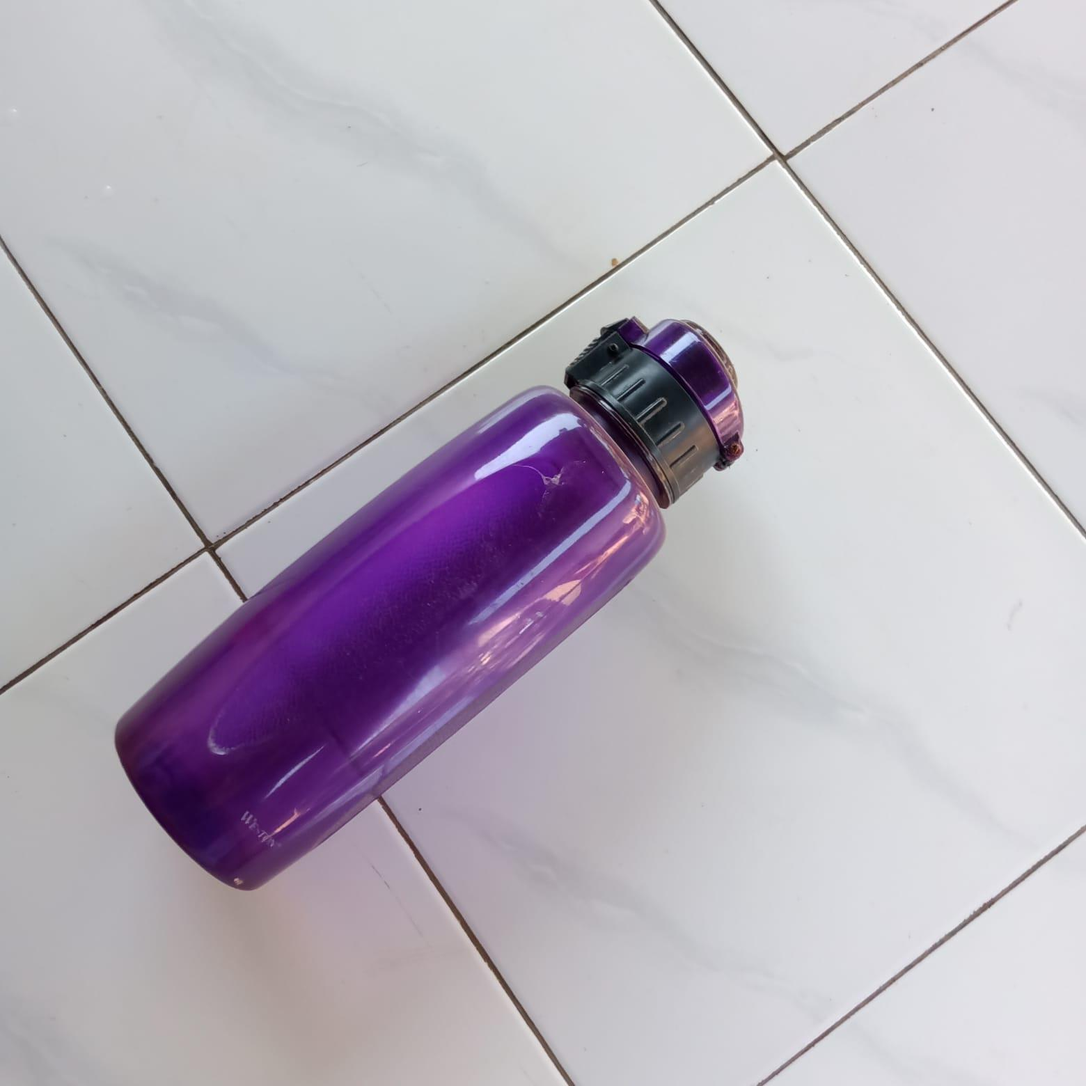Plastik: (114, 311, 746, 892)
